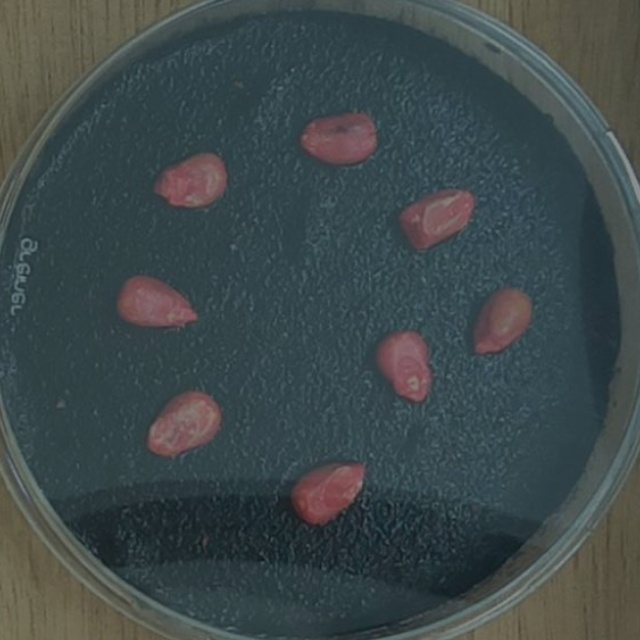Zea mays: (135, 380, 230, 463), (388, 177, 484, 258), (281, 451, 373, 533), (365, 320, 439, 413), (108, 264, 206, 332), (463, 279, 540, 364), (144, 143, 233, 216), (293, 104, 385, 171)
